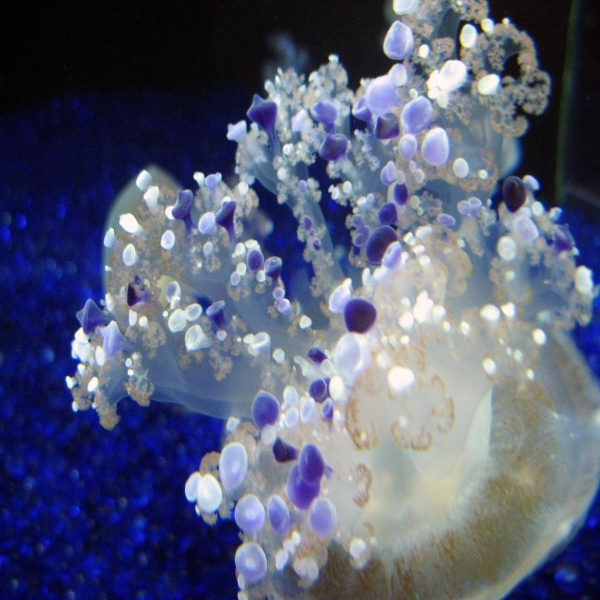Jellyfish: (69, 38, 591, 574)
